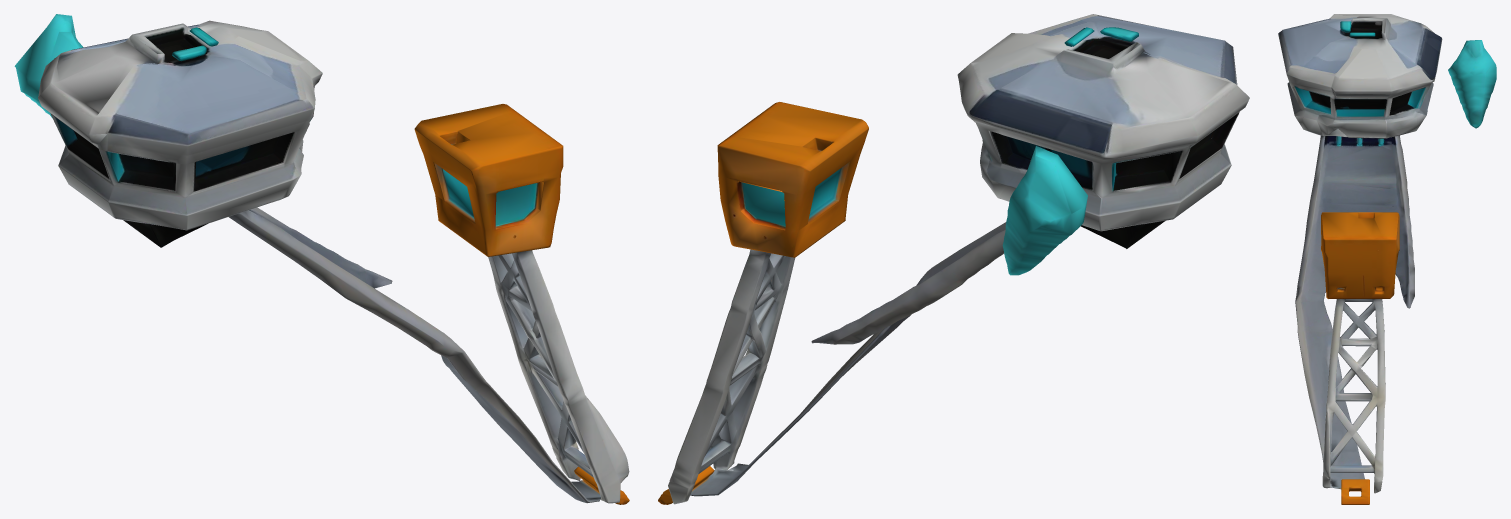
Rendered from finish-tower.glb.
3 views of the same model, side by side, from view 1: azimuth 30°, elevation 25°; view 2: azimuth 150°, elevation 25°; view 3: azimuth 270°, elevation 25° (orthographic). The views are drawn at different scales.
Visible parts, largest first — view 1: finish-tower; view 2: finish-tower; view 3: finish-tower.
Boxes of the visible parts, left/top/right/bottom form: finish-tower: left=14, top=14, right=629, bottom=504; finish-tower: left=658, top=14, right=1249, bottom=504; finish-tower: left=1278, top=14, right=1496, bottom=504.
Bounding box in the file's own units: 1 × 0.9648 × 0.5499.
1 material, 1 textured.
